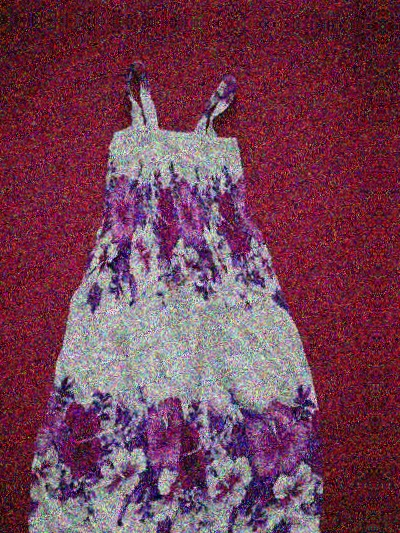Dress: (10, 68, 354, 533)
